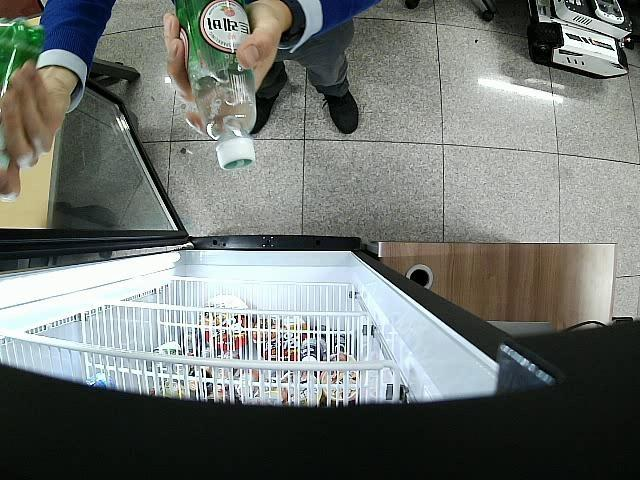18_trevi: (174, 0, 257, 171), (1, 17, 43, 169)
